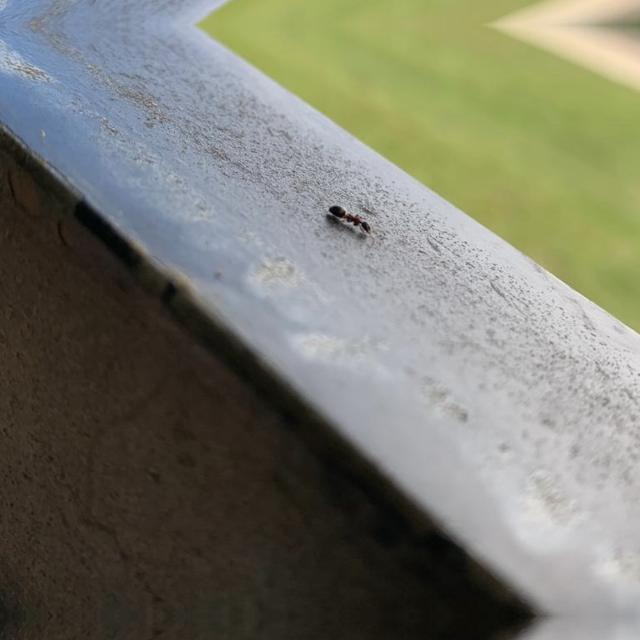Dolichoderus: (321, 195, 383, 239)
